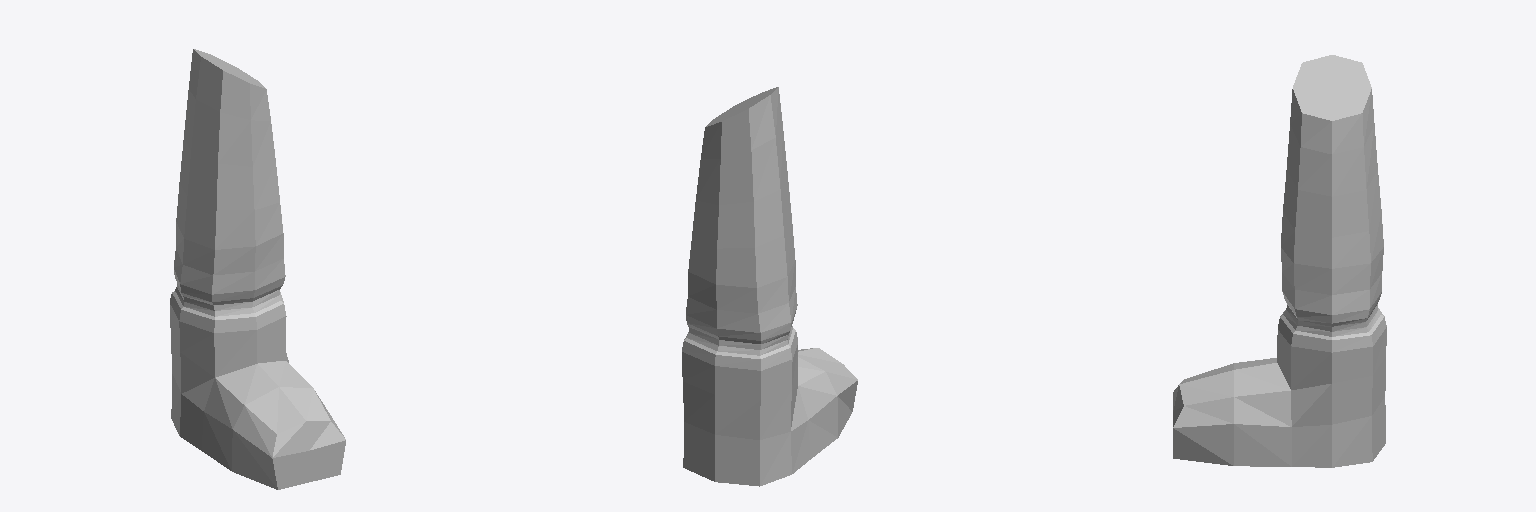
Rendered from rleg.obj.
3 views of the same model, side by side, from view 1: azimuth 30°, elevation 25°; view 2: azimuth 150°, elevation 25°; view 3: azimuth 270°, elevation 25° (orthographic).
Parts seen in each view (by area): view 1: rlegpos; view 2: rlegpos; view 3: rlegpos.
Part boxes in pixels (x1,y1,x2,y2): rlegpos: (170,49,345,489); rlegpos: (682,87,857,486); rlegpos: (1173,55,1386,467).
Bounding box in the file's own units: 47.94 × 169 × 87.53.